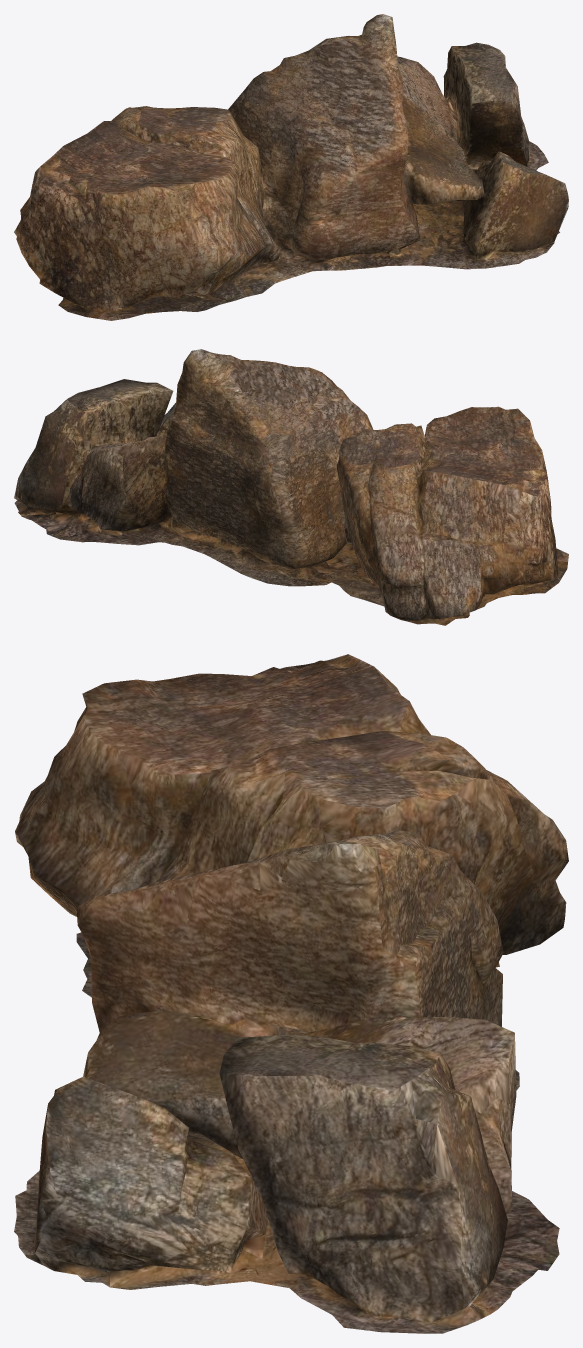
The picture shows the model from 3 angles, top to bottom: view 1: azimuth 30°, elevation 25°; view 2: azimuth 150°, elevation 25°; view 3: azimuth 270°, elevation 25°; orthographic projection. The views are drawn at different scales.
Visible parts, largest first — view 1: boulder_02; view 2: boulder_02; view 3: boulder_02.
Boxes of the visible parts, <box> form: boulder_02: <box>14,14,568,320</box>; boulder_02: <box>14,349,568,625</box>; boulder_02: <box>14,654,568,1333</box>.
Bounding box in the file's own units: 2.52 × 0.8745 × 1.23.
1 material, 1 textured.
